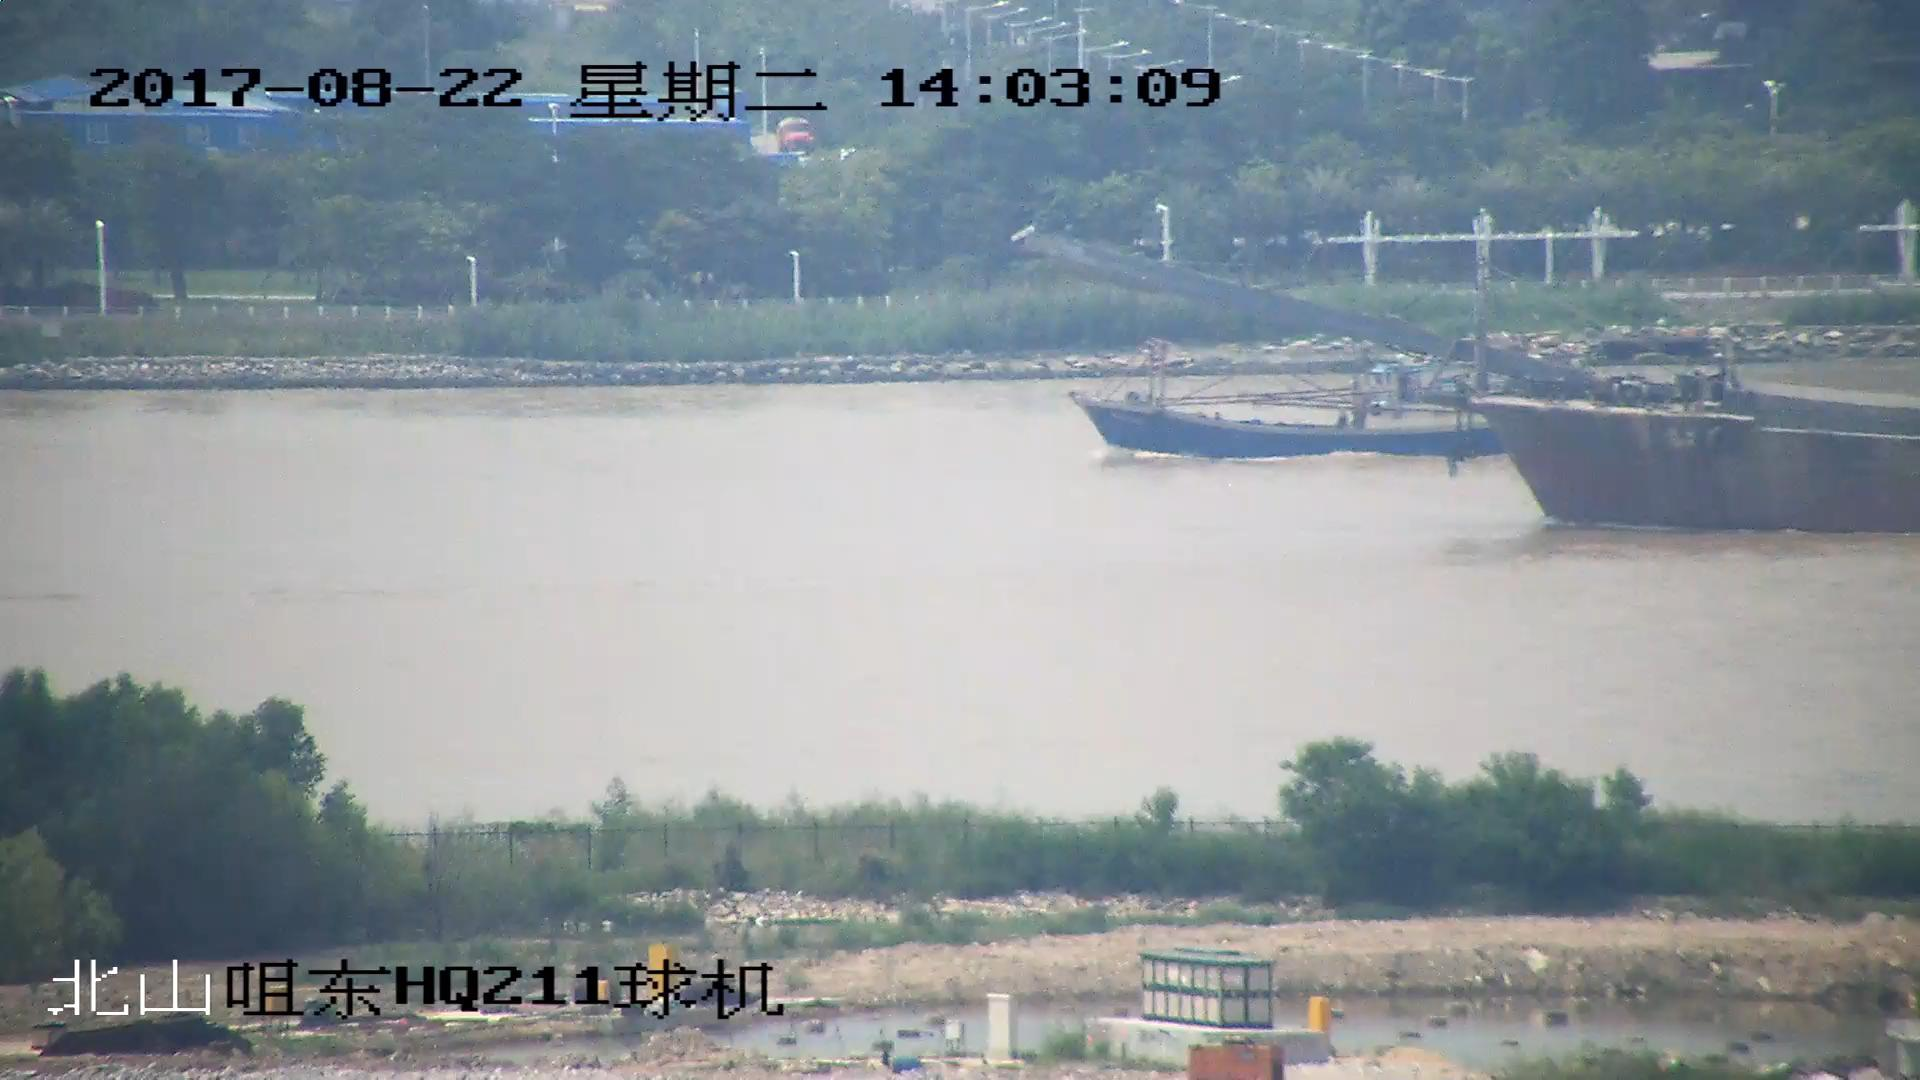Ship: (1021, 233, 1920, 539), (1073, 343, 1507, 462)
